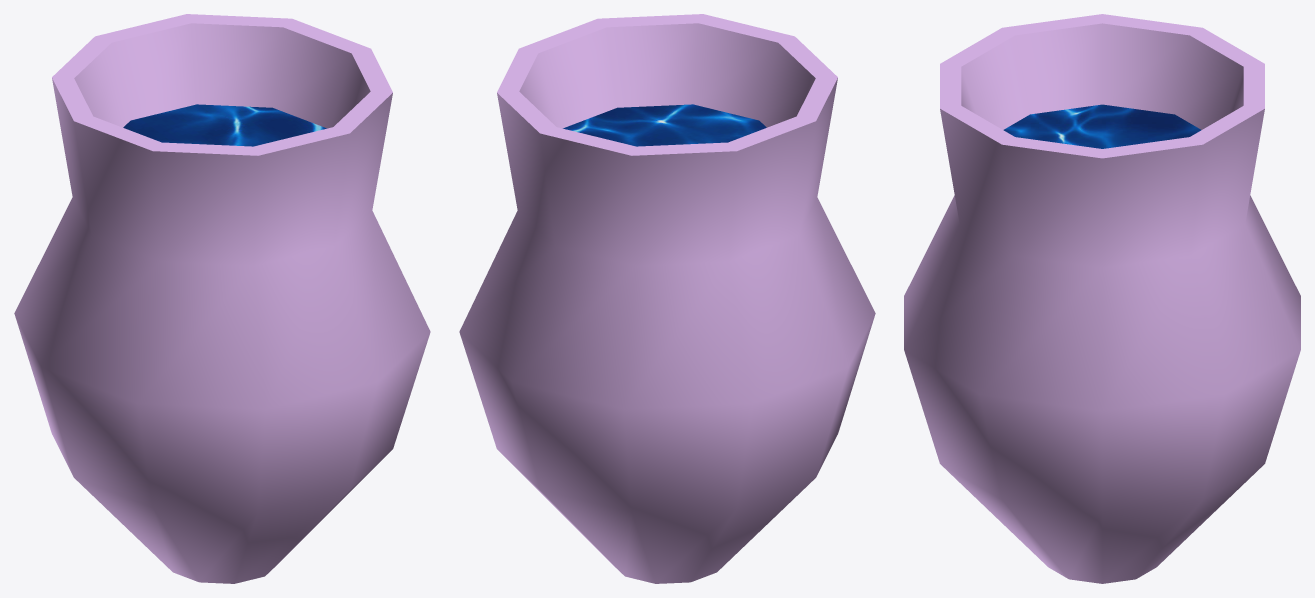
Rendered from New Vase Model.fbx.
3 views of the same model, side by side, from view 1: azimuth 30°, elevation 25°; view 2: azimuth 150°, elevation 25°; view 3: azimuth 270°, elevation 25° (orthographic).
Visible parts, largest first — view 1: New_Vase; view 2: New_Vase; view 3: New_Vase.
Boxes of the visible parts, x1,y1,x2,y2 form: New_Vase: (14,14,430,583); New_Vase: (459,14,875,583); New_Vase: (904,14,1300,583).
Bounding box in the file's own units: 5.17 × 6.48 × 4.92.
Materials: 1 (1 with a texture image).
